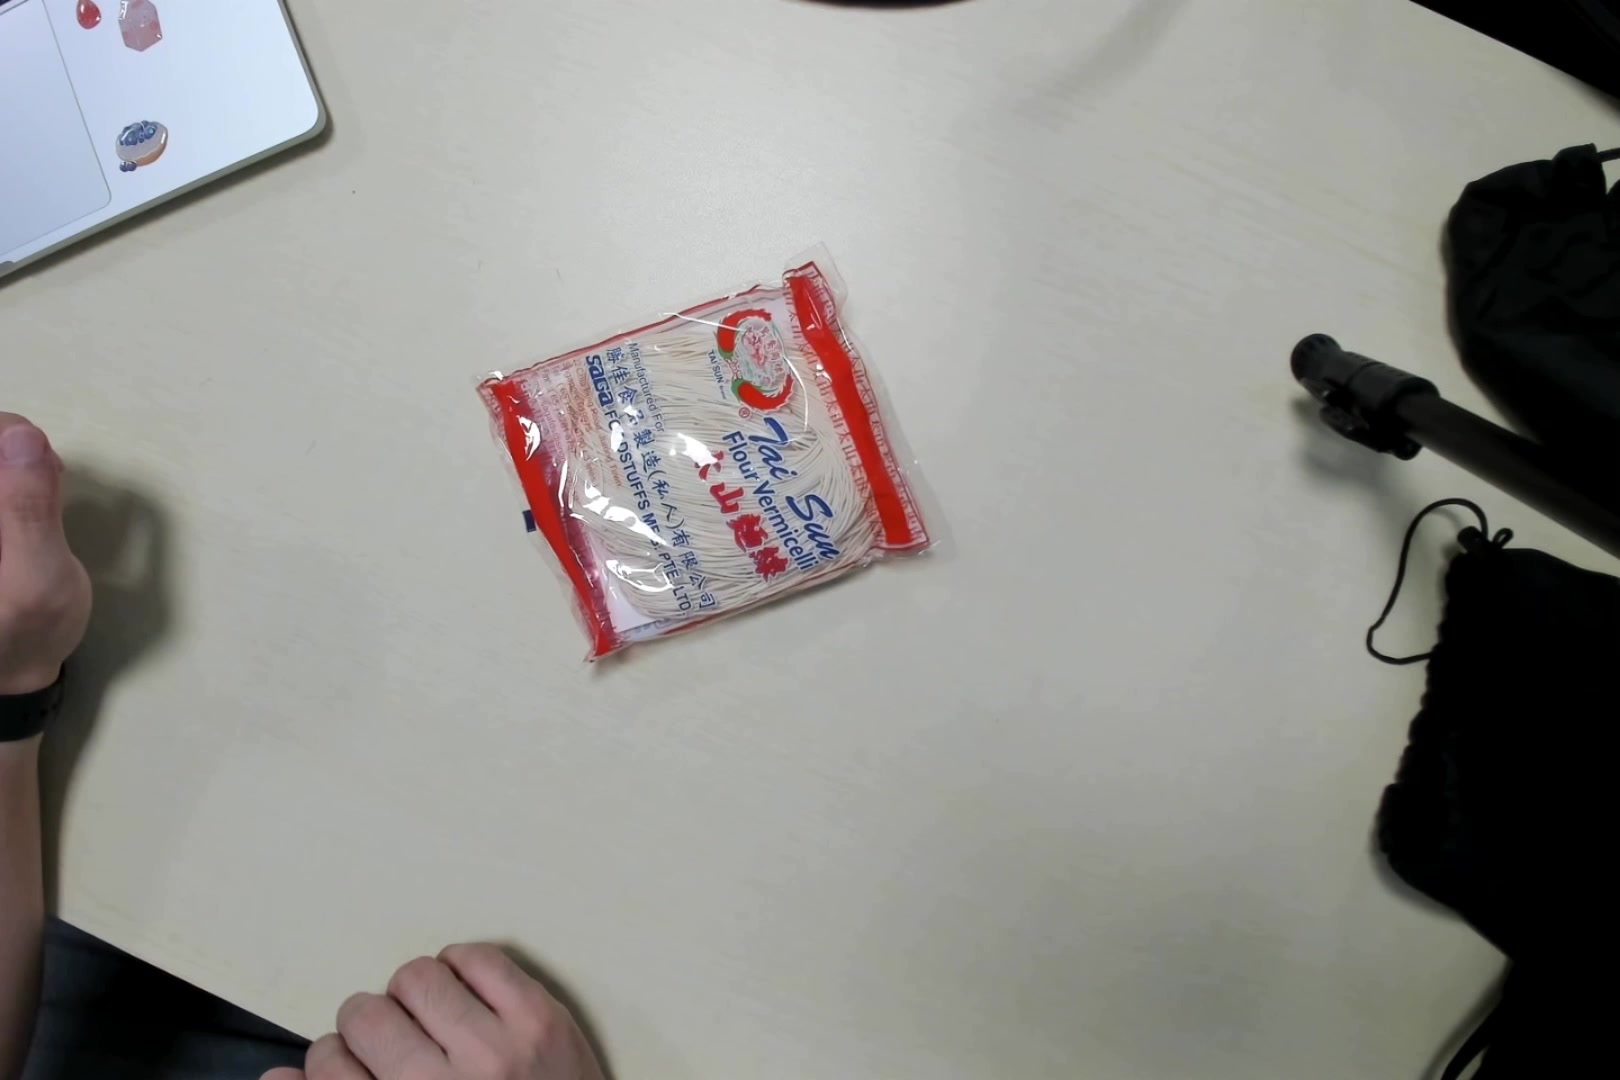BeeHoonVermicelli_100-199g_Halal_NonHealthy: (487, 256, 939, 676)
